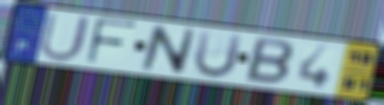4: (296, 42, 335, 91)
B: (242, 35, 296, 87)
F: (84, 16, 140, 67)
N: (138, 23, 198, 77)
U: (37, 11, 94, 64), (192, 29, 246, 80)
